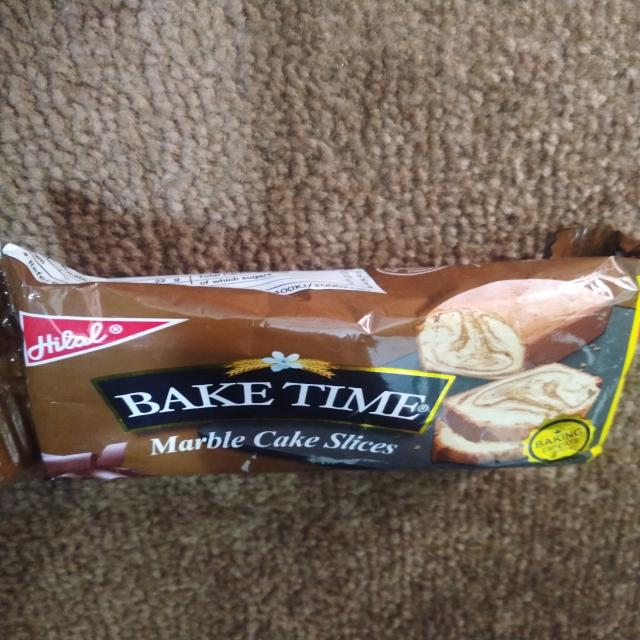Plastic: (6, 259, 623, 464)
